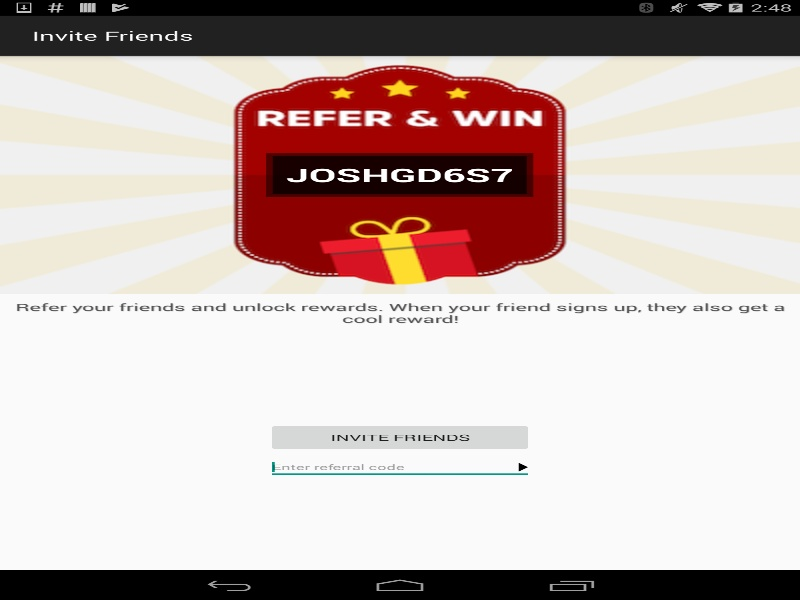Button: (266, 422, 533, 452), (512, 462, 533, 472)
Input: (266, 455, 533, 479)
